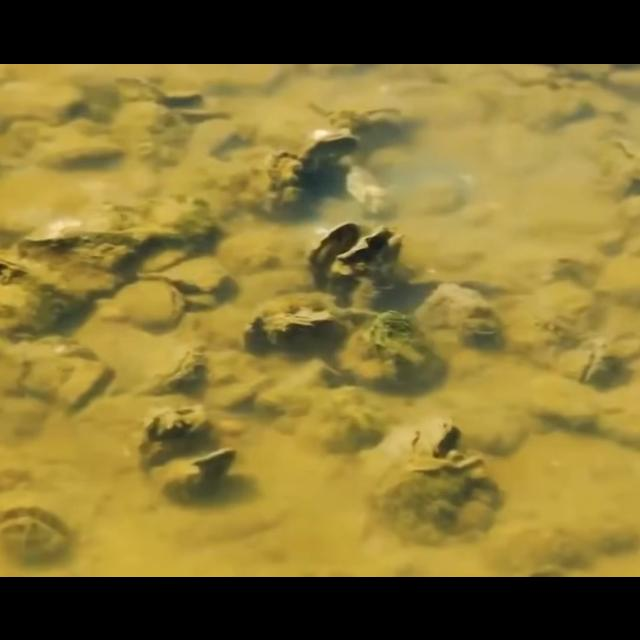Oyster-Closed: (378, 454, 502, 534), (341, 306, 442, 392), (0, 242, 122, 300), (244, 297, 340, 353), (416, 280, 500, 344), (138, 405, 212, 471), (108, 277, 184, 333), (156, 340, 212, 396), (262, 150, 312, 212), (564, 334, 620, 388)
Oyster-Open: (366, 413, 464, 475), (330, 223, 406, 299), (0, 502, 74, 568), (150, 257, 242, 309), (162, 445, 238, 503), (308, 219, 360, 295), (303, 127, 359, 189)
